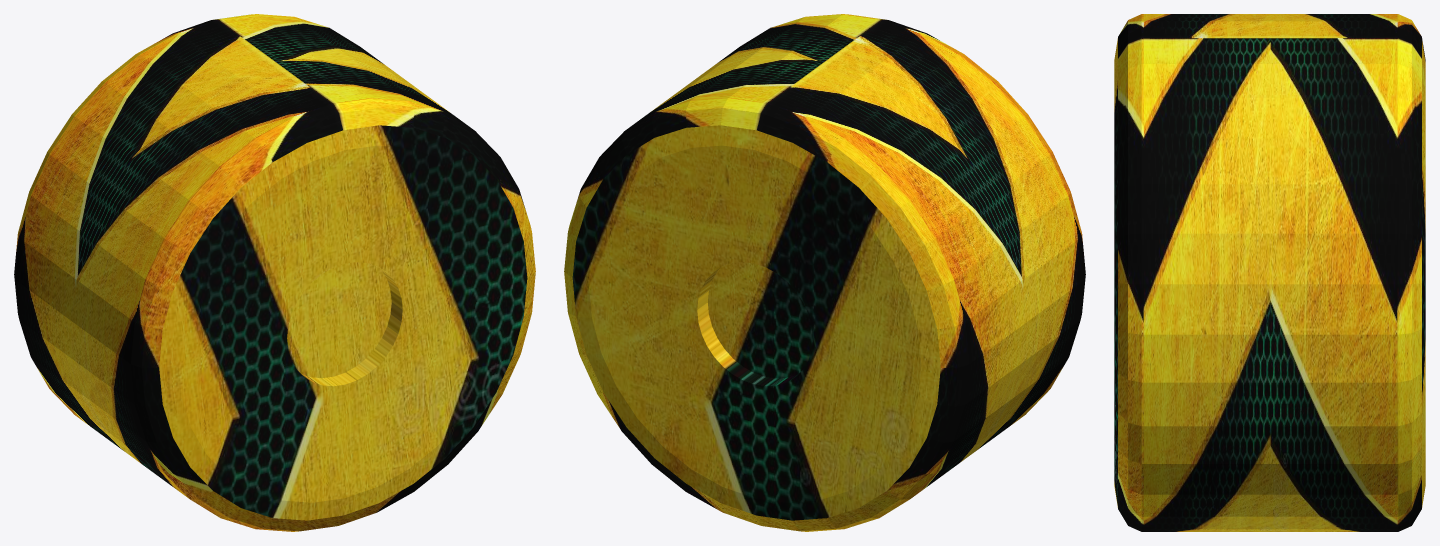
Rendered from wheel.dae.
3 renders of one model, left to right at view 1: azimuth 30°, elevation 25°; view 2: azimuth 150°, elevation 25°; view 3: azimuth 270°, elevation 25°, orthographic. The views are drawn at different scales.
Visible parts, largest first — view 1: Cylinder; view 2: Cylinder; view 3: Cylinder.
Boxes of the visible parts, x1,y1,x2,y2 form: Cylinder: (14,14,535,531); Cylinder: (564,14,1085,531); Cylinder: (1114,14,1425,531).
Bounding box in the file's own units: 0.1 × 0.06 × 0.1.
1 material, 1 textured.
